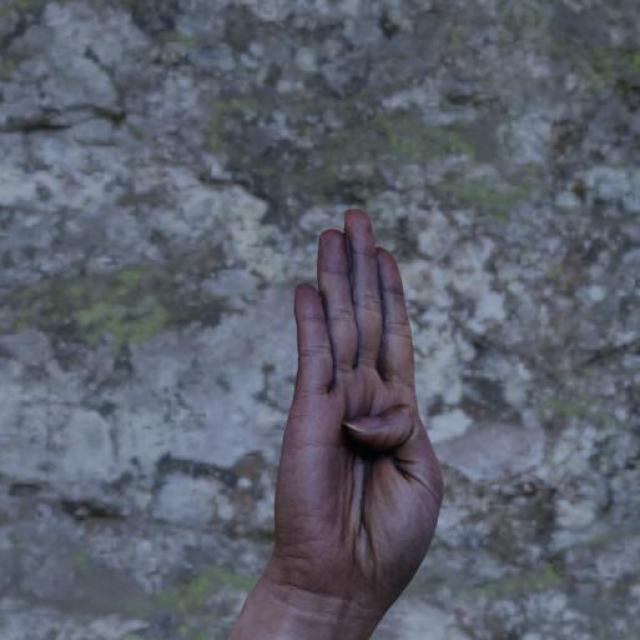B: (250, 203, 447, 592)
